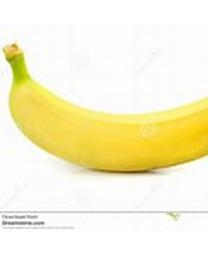banana: (1, 36, 206, 172)
